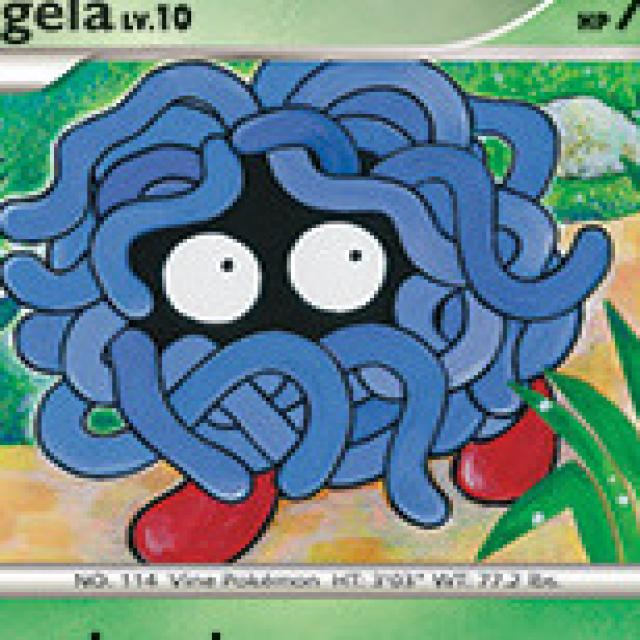Tangela: (15, 59, 596, 546)
